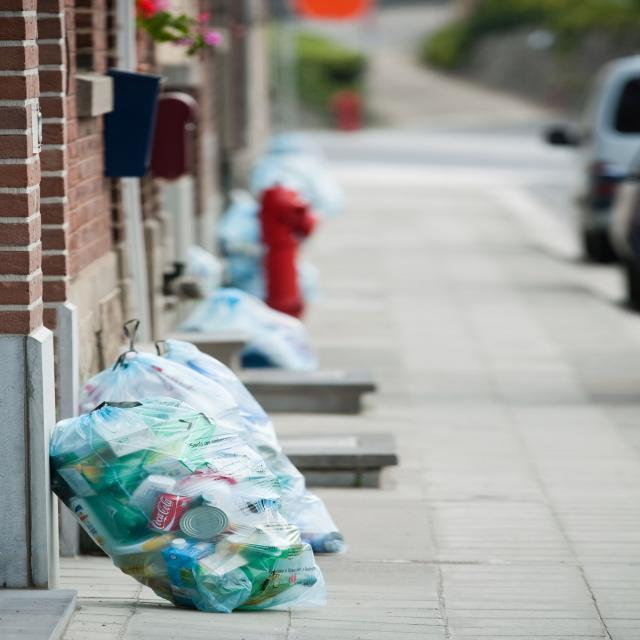garbage: (38, 332, 374, 626), (162, 242, 320, 384), (257, 127, 347, 206), (206, 190, 270, 246)
